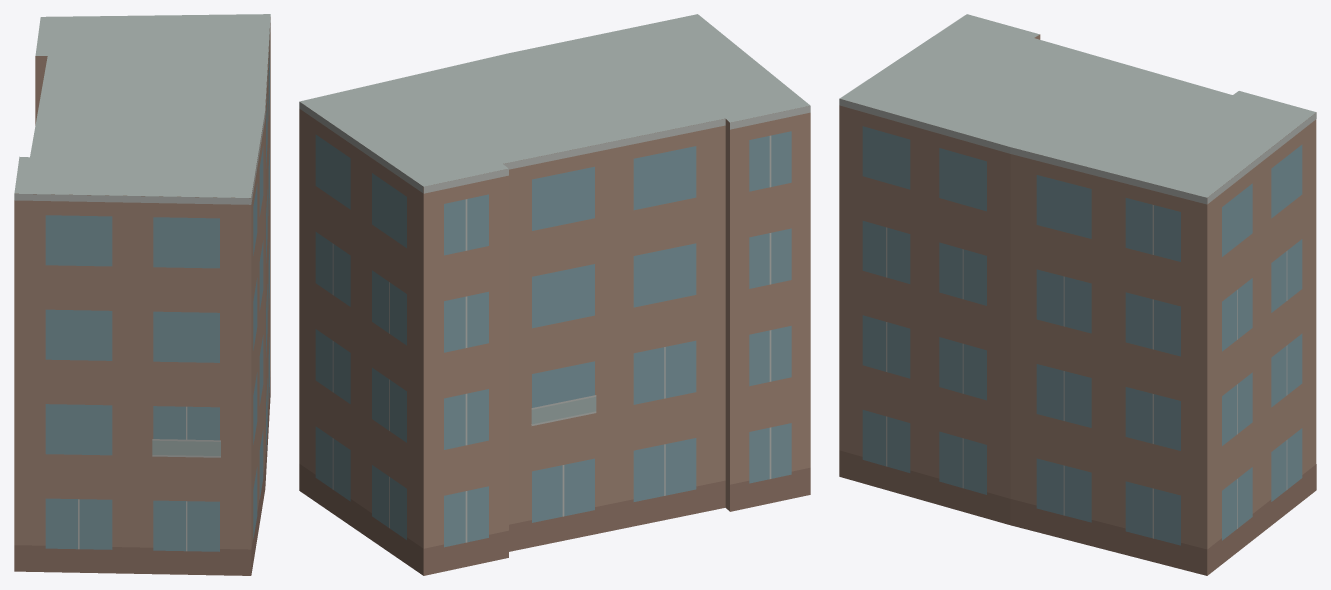
Rendered from survey-upis-32896671.glb.
3 views of the same model, side by side, from view 1: azimuth 30°, elevation 25°; view 2: azimuth 150°, elevation 25°; view 3: azimuth 270°, elevation 25° (orthographic). The views are drawn at different scales.
Parts seen in each view (by area): view 1: survey-upis-32896671.tmp; view 2: survey-upis-32896671.tmp; view 3: survey-upis-32896671.tmp.
Part boxes in pixels (x1,y1,x2,y2): survey-upis-32896671.tmp: (14, 14, 270, 575); survey-upis-32896671.tmp: (299, 14, 810, 575); survey-upis-32896671.tmp: (839, 14, 1316, 575).
Size of the model in its own units: 14.19 by 13.6 by 15.56.
